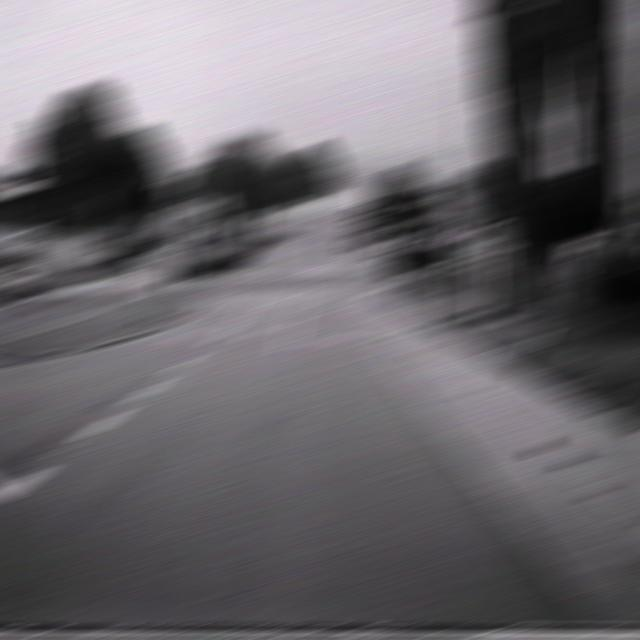stop_sign: (379, 219, 402, 236), (165, 220, 188, 237)
